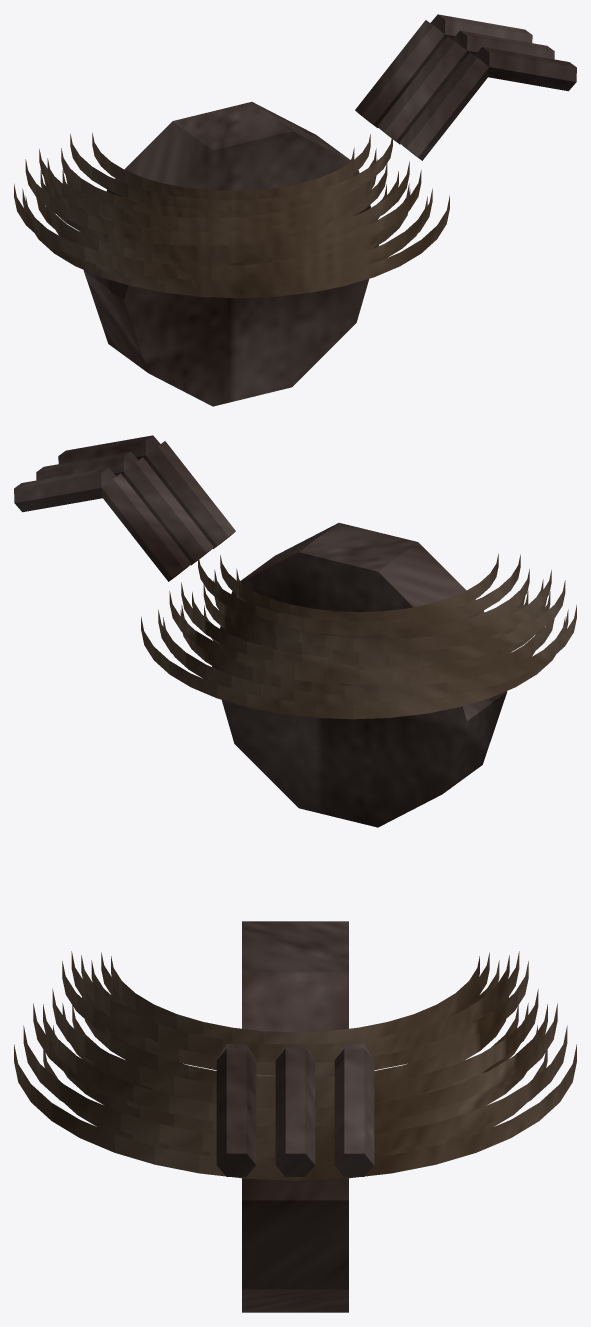
Rendered from 0962_rope_coil_12.glb.
The picture shows the model from 3 angles, top to bottom: view 1: azimuth 30°, elevation 25°; view 2: azimuth 150°, elevation 25°; view 3: azimuth 270°, elevation 25°; orthographic projection. The views are drawn at different scales.
Visible parts, largest first — view 1: wood_dark, wood; view 2: wood_dark, wood; view 3: wood, wood_dark.
Boxes of the visible parts, left/top/right/bottom form: wood_dark: left=83, top=14, right=576, bottom=406; wood: left=14, top=132, right=449, bottom=298; wood_dark: left=14, top=435, right=507, bottom=827; wood: left=141, top=553, right=576, bottom=719; wood: left=14, top=951, right=576, bottom=1180; wood_dark: left=216, top=921, right=374, bottom=1312.
Size of the model in its own units: 1.46 by 0.7998 by 1.05.
2 materials, 2 textured.
